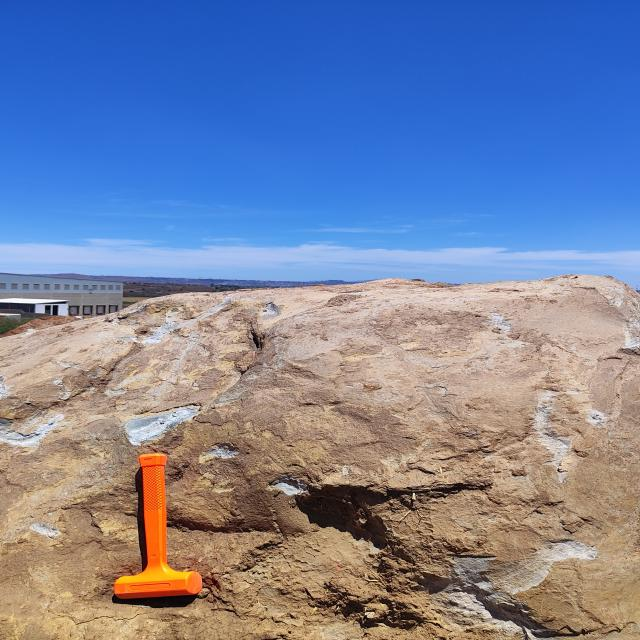Orange_hammer: (112, 452, 203, 599)
